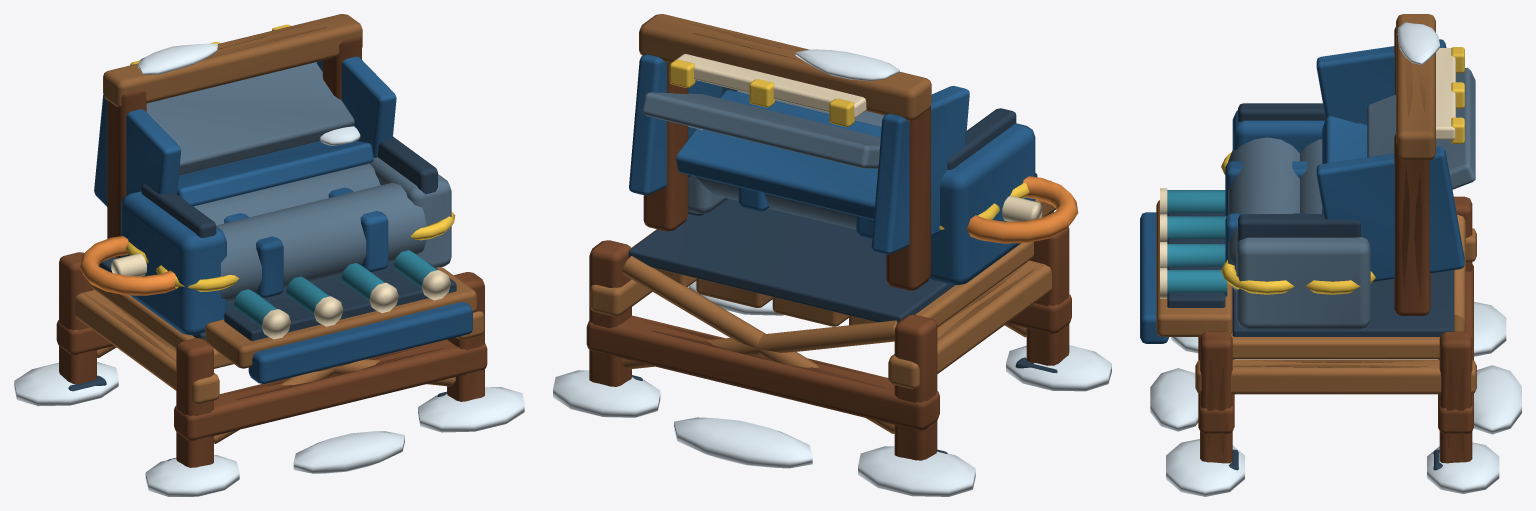
File: intake_machine.glb
3 views of the same model, side by side, from view 1: azimuth 30°, elevation 25°; view 2: azimuth 150°, elevation 25°; view 3: azimuth 270°, elevation 25° (orthographic). The views are drawn at different scales.
Parts seen in each view (by area): view 1: intake_machine; view 2: intake_machine; view 3: intake_machine.
Part boxes in pixels (bbox=[...]): intake_machine: bbox=[14, 14, 524, 496]; intake_machine: bbox=[553, 14, 1111, 496]; intake_machine: bbox=[1140, 14, 1521, 496].
Size of the model in its own units: 2.51 by 2.12 by 2.1.
